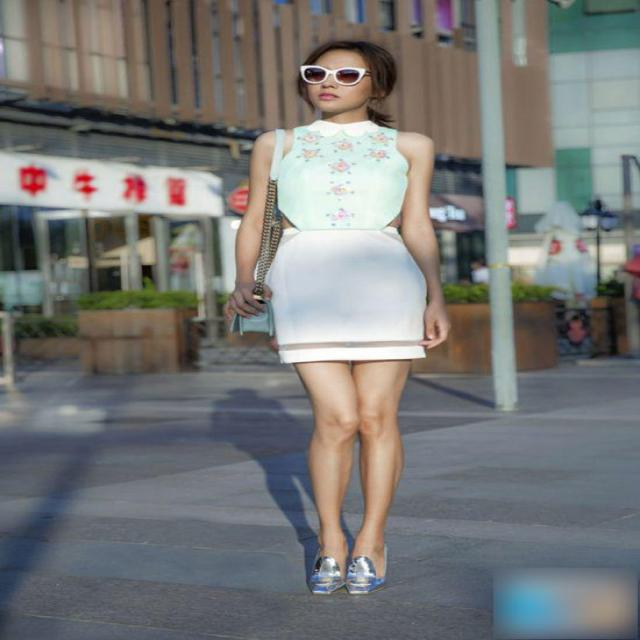obstacle: (188, 20, 445, 607)
